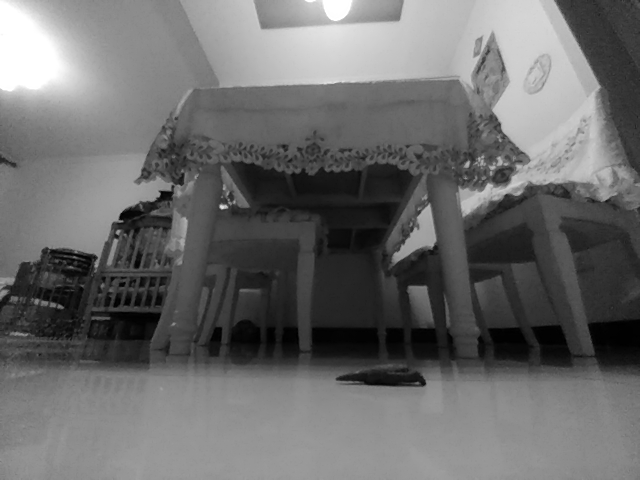pet feces: (336, 360, 427, 388)
